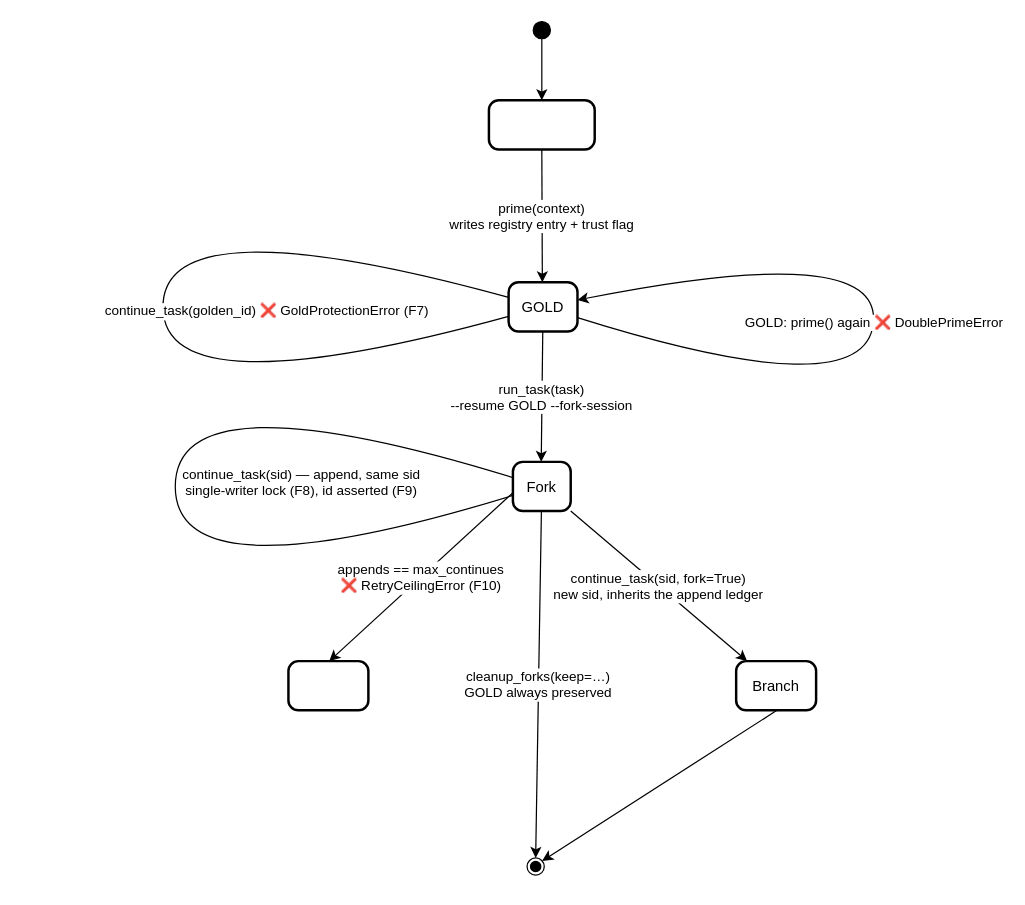
Image size: 1025x905. Some labels were removed from this diagram. Here are the shapes that lost their labels. From the top down, the centre of each, then its label:
At (541,124): "Unprimed".
At (328,685): "Ceiling".
